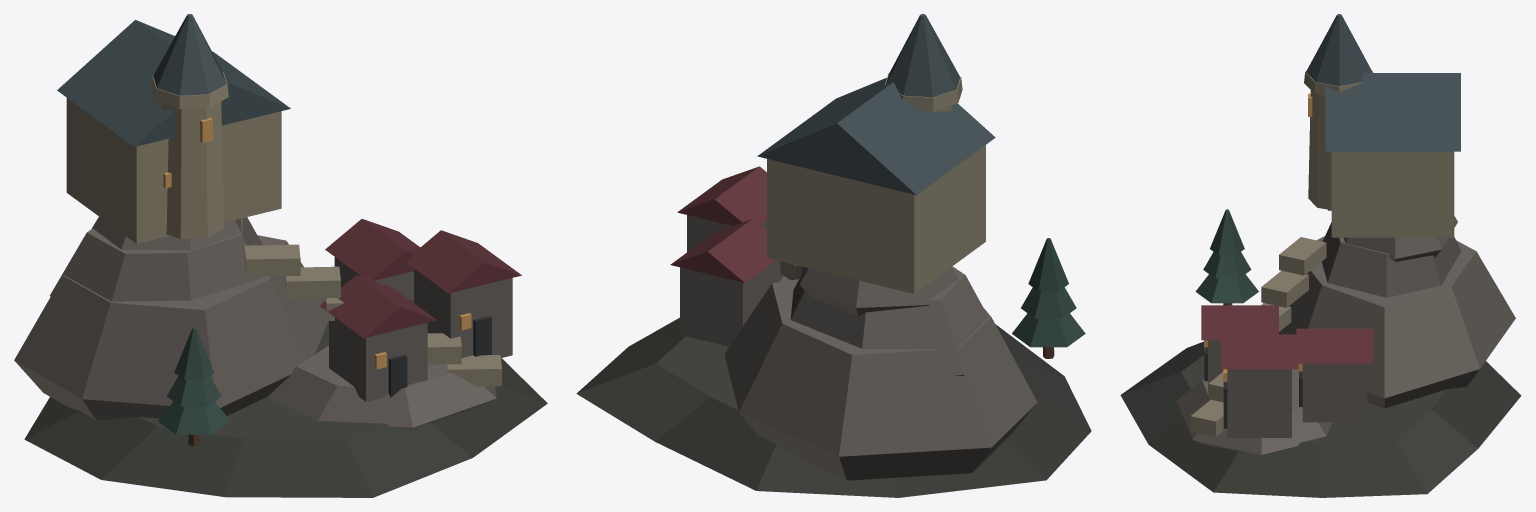
Rendered from krezk.glb.
The picture shows the model from 3 angles, left to right: view 1: azimuth 30°, elevation 25°; view 2: azimuth 150°, elevation 25°; view 3: azimuth 270°, elevation 25°; orthographic projection. The views are drawn at different scales.
Visible parts, largest first — view 1: Krezk and the abbey · atlas landmark; view 2: Krezk and the abbey · atlas landmark; view 3: Krezk and the abbey · atlas landmark.
Part boxes in pixels (x1,y1,x2,y2): Krezk and the abbey · atlas landmark: [14, 14, 547, 497]; Krezk and the abbey · atlas landmark: [576, 14, 1091, 497]; Krezk and the abbey · atlas landmark: [1120, 14, 1521, 497].
Size of the model in its own units: 2.08 by 1.88 by 1.86.
